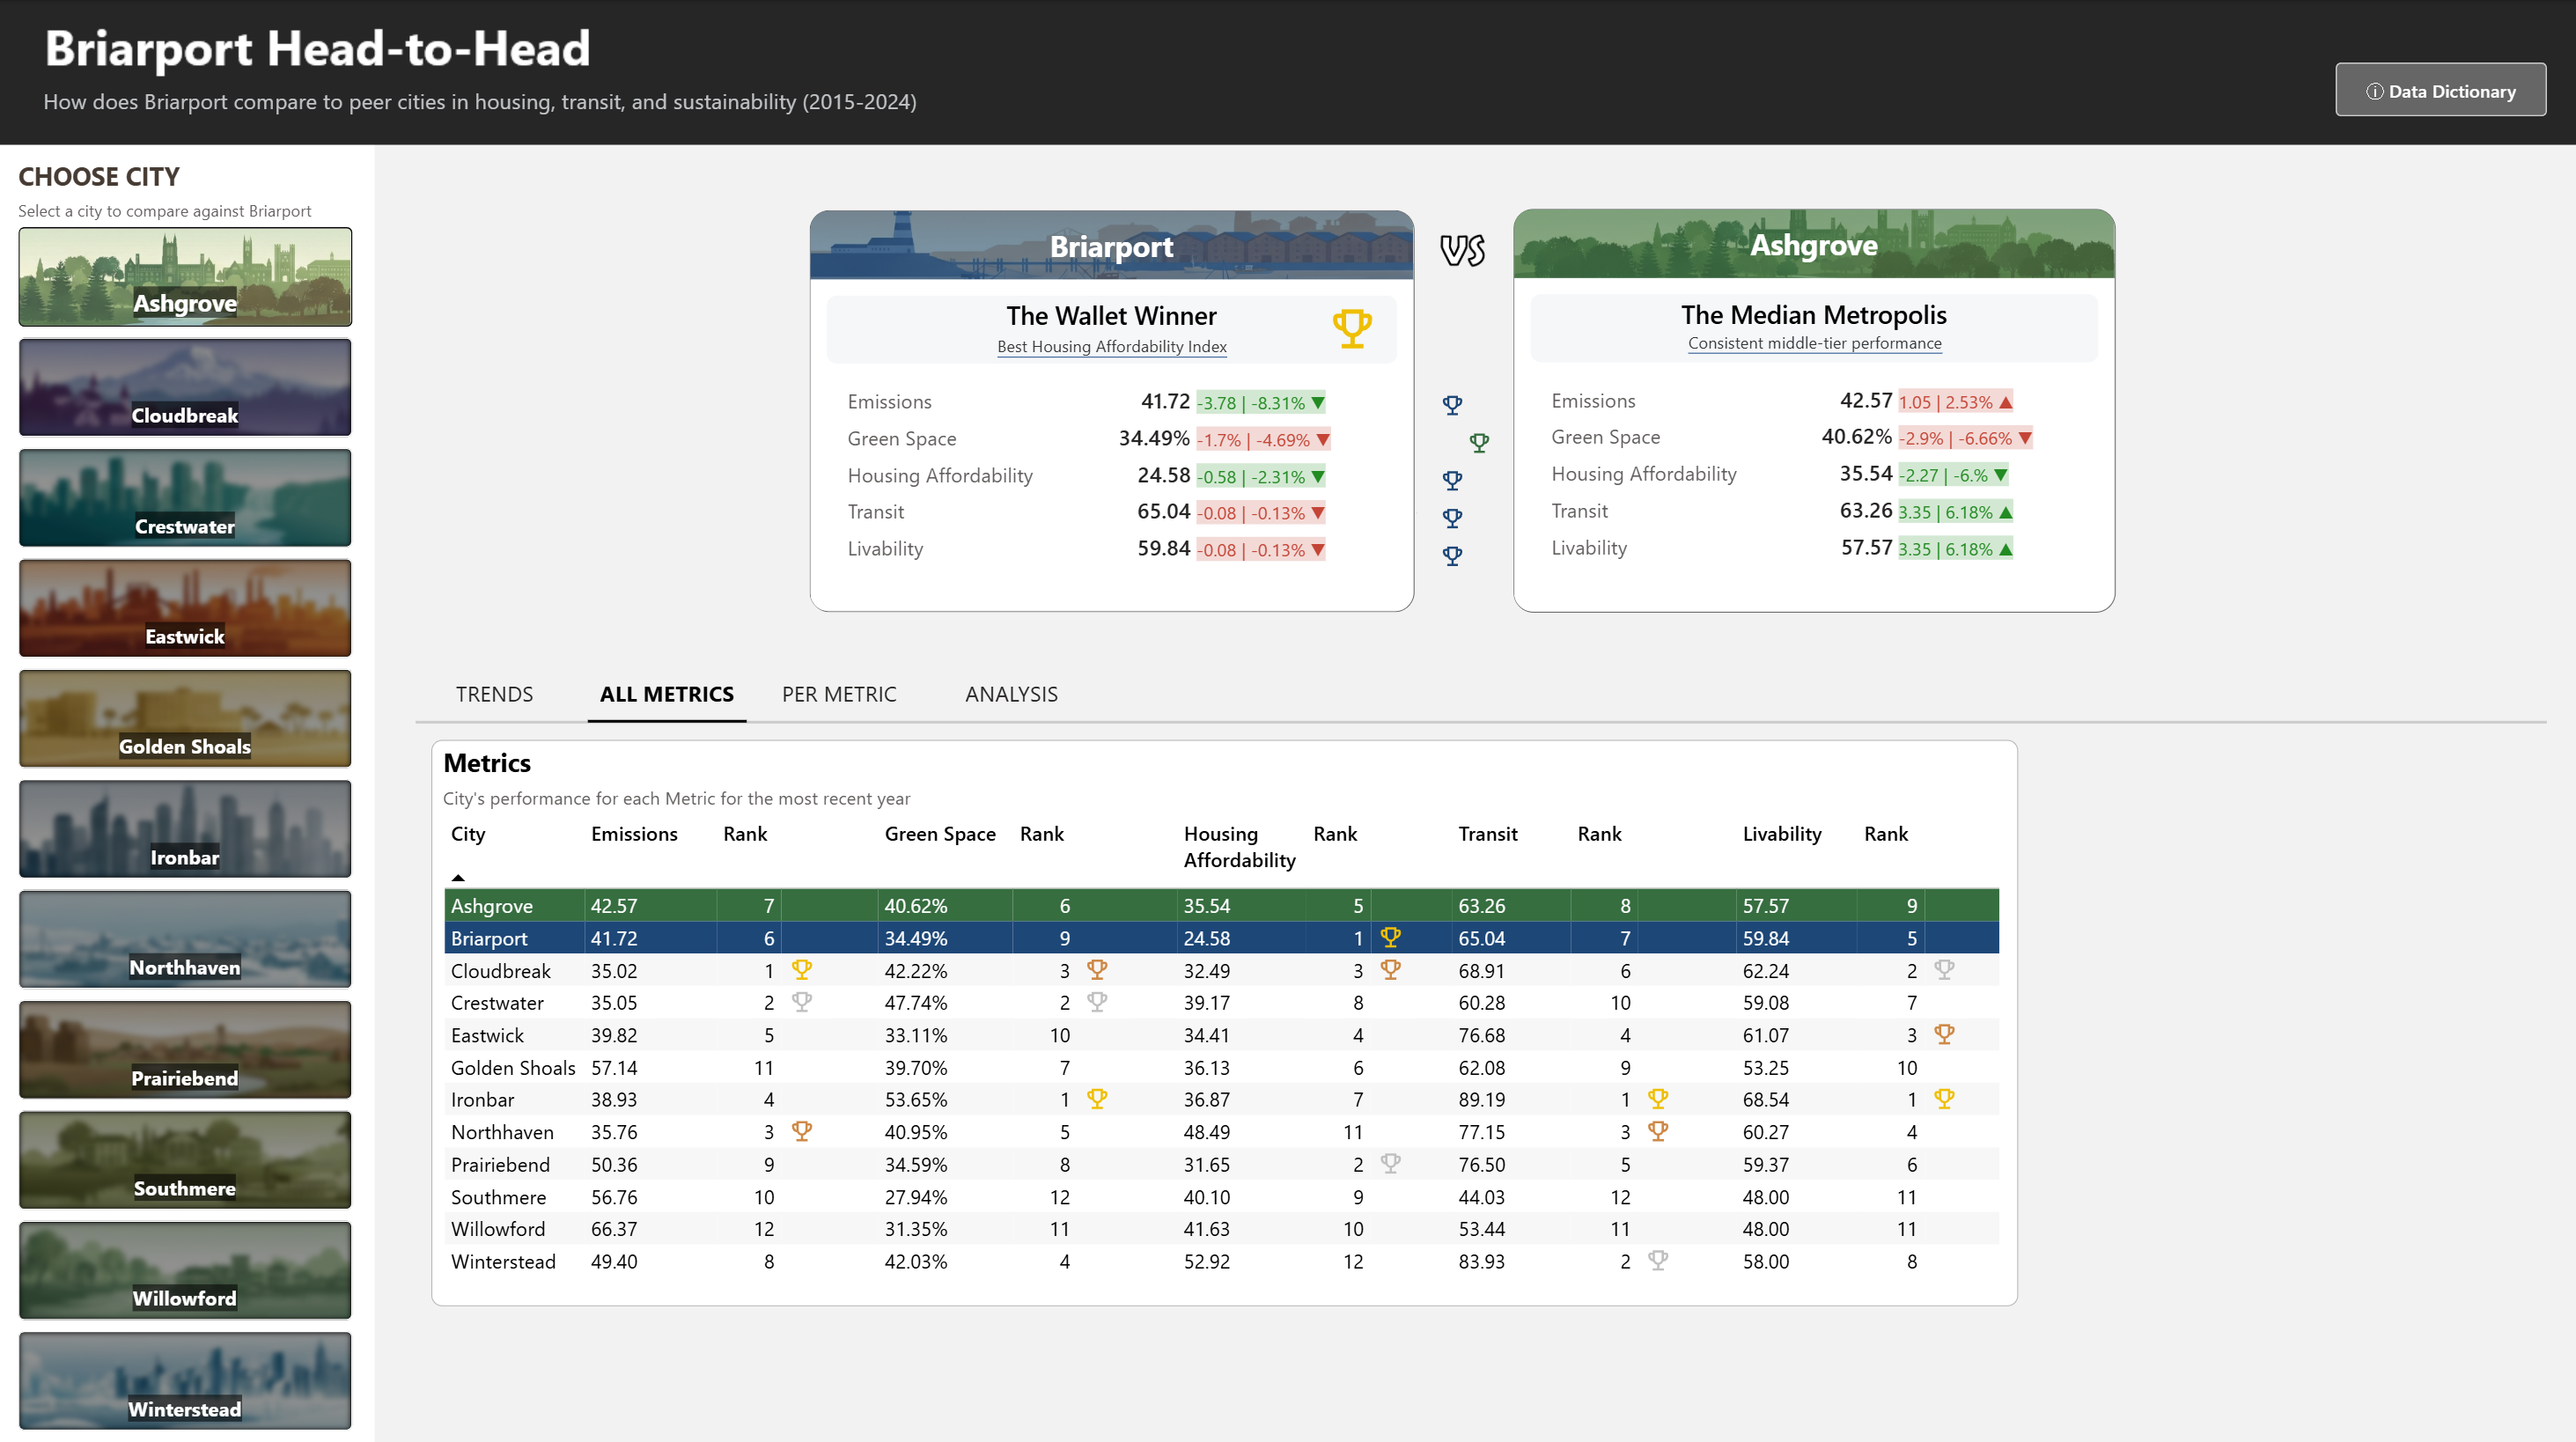

This screenshot's page, from the dashboard's own definition file:
{"tool":"powerbi","page":{"name":"Head to Head","canvas":[1920,1080],"ordinal":0},"visuals":[{"type":"actionButton","title":"Data Dictionary","box":[1738,49.5,157,40],"z":0,"group":"g2"},{"type":"pivotTable","title":"Comparison Metric","fields":{"Values":["City Metrics.Emissions Winner","City Metrics.Green Space Winner","City Metrics.Housing Affordability Winner","City Metrics.Transit Winner","City Metrics.Livability Winner"]},"box":[1046.2,250.2,84.4,194.1],"z":0,"group":"g1"},{"type":"cardVisual","title":"Data Dictionary","fields":{"Data":["City Metrics.Ws"]},"box":[1738,49.6,157.2,39.9],"z":1000,"group":"g2"},{"type":"cardVisual","title":"Comparison City Card","fields":{"Data":["Monikers.Selected Moniker"],"Rows":["City Lookup.City"]},"box":[1122.1,132.8,458.9,350.7],"z":1000,"group":"g1"},{"type":"textbox","title":"Comparison City Description","box":[1128,242.1,447.5,35.3],"z":2000,"group":"g1"},{"type":"tableEx","title":"Metrics","fields":{"Values":["Cities.City","City Metrics.Emissions TY Selected City","City Metrics.Emissions Rank Selected City","City Metrics.Emission Medal Selected City","City Metrics.Green Space TY Selected City","City Metrics.Green Space Rank Selected City","City Metrics.Green Space Medal Selected City","City Metrics.Housing Affordability TY Selected City","City Metrics.Housing Affordability Rank Selected City","City Metrics.Housing Affordability Medal Selected City","City Metrics.Transit TY Selected City","City Metrics.Transit Rank Selected City"]},"box":[324,552.5,1178.8,420.8],"z":2000},{"type":"image","title":"Comparison City Crown","box":[1141.7,228.5,60.4,38.7],"z":3000,"group":"g1"},{"type":"cardVisual","title":"Briarport Card","fields":{"Data":["Monikers.Selected Moniker"],"Rows":["City Lookup.City"]},"box":[599.2,133.9,460.2,349.3],"z":4000,"group":"g1"},{"type":"shape","title":"Metric View Divider","box":[311.6,525.9,1583.1,26.6],"z":4000},{"type":"image","title":"Briarport Crown","box":[978.3,228.4,60.4,38.7],"z":5000,"group":"g1"},{"type":"bookmarkNavigator","title":"Metric View Tabs","box":[311.6,494,503.3,45.3],"z":5000},{"type":"group","id":"g1","title":"Vs","box":[599.2,132.8,981.9,350.7],"z":6000},{"type":"textbox","title":"Briarport Description","box":[605.9,244.3,446.4,35.3],"z":6000,"group":"g1"},{"type":"advancedSlicerVisual","title":"CHOOSE CITY","fields":{"Values":["City Lookup.City"]},"box":[11.4,120.7,258.5,958.9],"z":7000},{"type":"image","title":"Vs","box":[1067.7,161,45.3,54.6],"z":7000,"group":"g1"},{"type":"group","id":"g2","title":"Data Dictionary","box":[1738,49.5,157.2,40],"z":8000},{"type":"textbox","title":"Page Subtitle","box":[30.7,60.4,782.3,45.6],"z":9000}]}

Visuals, with their boxes in screenshot pixels (x1, y1, x2, y2), scaled from the page's 1920x1080 canvas onto the 2576x1442 screenshot:
"Data Dictionary" actionButton: 2332 66 2543 120
"Comparison Metric" pivotTable: 1403 334 1517 593
"Data Dictionary" cardVisual: 2332 66 2543 120
"Comparison City Card" cardVisual: 1505 177 2121 645
"Comparison City Description" textbox: 1513 323 2114 371
"Metrics" tableEx: 435 738 2016 1299
"Comparison City Crown" image: 1532 305 1613 357
"Briarport Card" cardVisual: 804 179 1421 645
"Metric View Divider" shape: 418 703 2542 738
"Briarport Crown" image: 1313 305 1394 357
"Metric View Tabs" bookmarkNavigator: 418 659 1093 720
"Vs" group: 804 177 2122 645
"Briarport Description" textbox: 813 327 1412 373
"CHOOSE CITY" advancedSlicerVisual: 15 161 362 1441
"Vs" image: 1432 215 1493 288
"Data Dictionary" group: 2332 66 2543 120
"Page Subtitle" textbox: 41 81 1091 142
